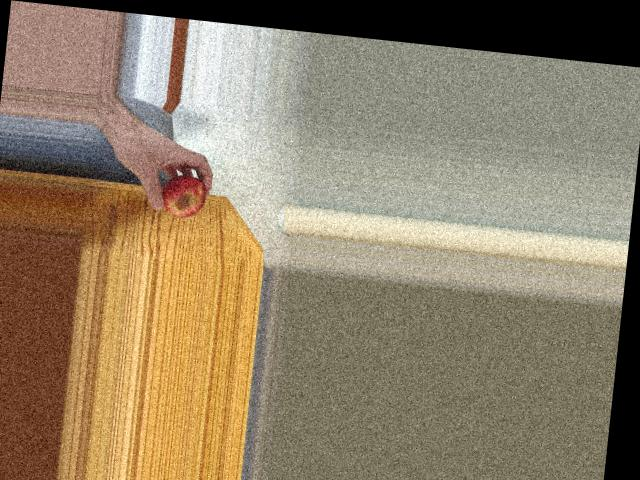apple: (157, 173, 210, 219)
